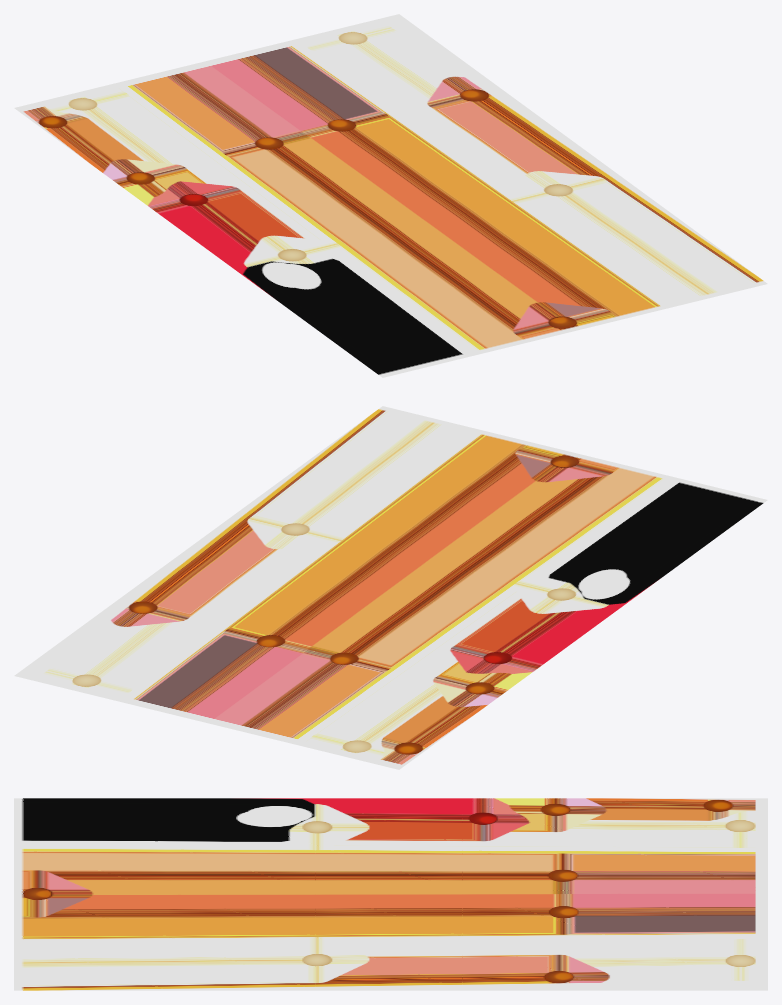
File: inserts002.fbx
3 renders of one model, top to bottom at view 1: azimuth 30°, elevation 25°; view 2: azimuth 150°, elevation 25°; view 3: azimuth 270°, elevation 25°, orthographic. The views are drawn at different scales.
Visible parts, largest first — view 1: inserts002; view 2: inserts002; view 3: inserts002.
Boxes of the visible parts, x1=… form: inserts002: x1=14, y1=14, x2=767, y2=377; inserts002: x1=14, y1=406, x2=767, y2=769; inserts002: x1=14, y1=798, x2=767, y2=990.
Size of the model in its own units: 40.91 by 1.92e-14 by 67.84.
Materials: 1 (1 with a texture image).
